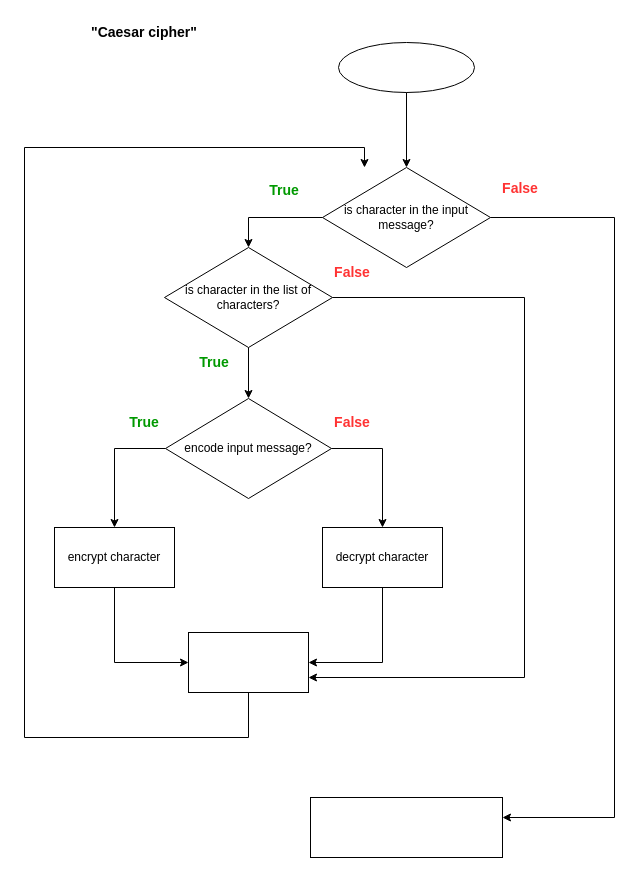
The diagram is 640 pixels wide and 875 high, and some of its shapes have lost their labels. The shapes that lost their labels are listed below. From the top down, each one's centre as x and y in pixels, then its label:
At point (406, 67): "Start: input parameters".
At point (248, 662): "add character to the output message".
At point (406, 827): "print output message".
